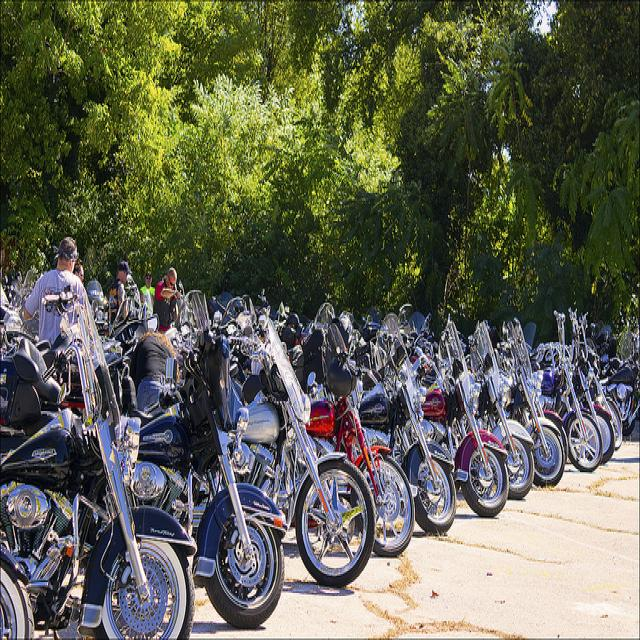motor: (0, 283, 197, 633), (127, 288, 289, 630), (234, 316, 382, 588), (354, 313, 458, 535), (313, 350, 416, 554), (410, 311, 510, 517), (530, 308, 617, 460), (469, 320, 534, 499), (499, 318, 566, 488), (540, 354, 603, 474), (579, 312, 624, 450), (598, 322, 640, 438)
